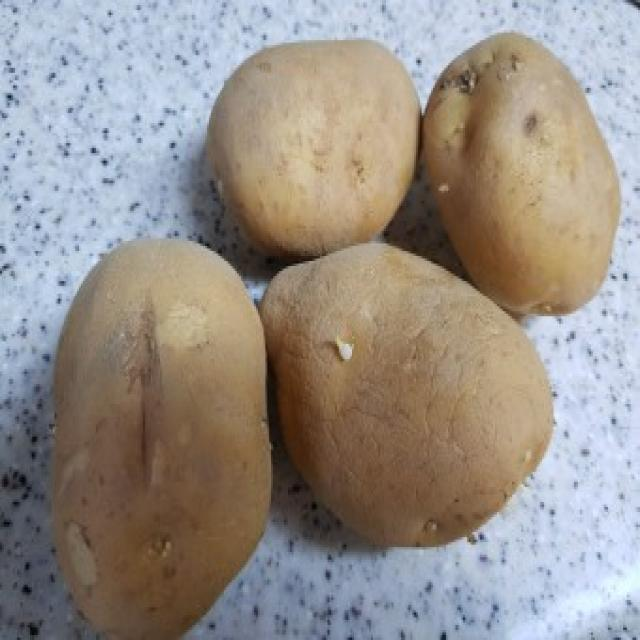potato: (46, 224, 278, 640), (260, 237, 566, 551), (419, 30, 624, 320), (206, 35, 427, 262)
